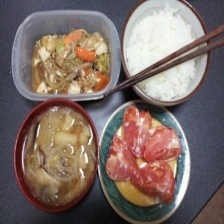rice: (127, 0, 198, 100)
